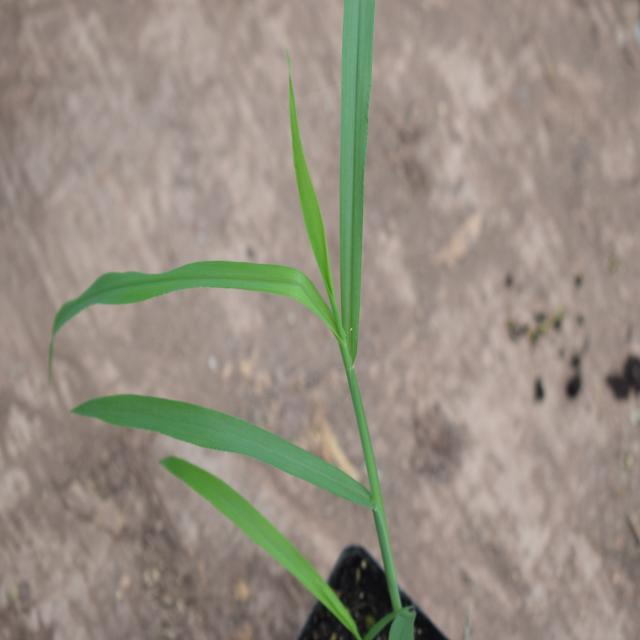crabgrass: (75, 24, 414, 584)
